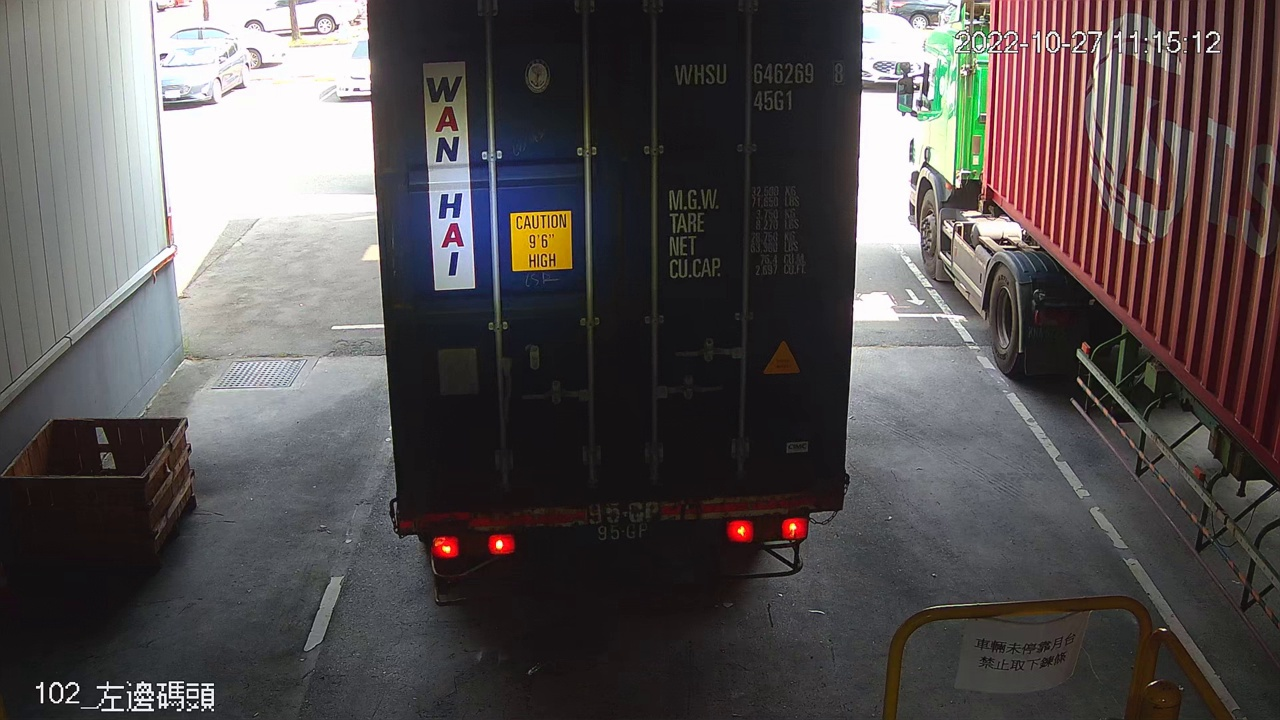container: (668, 54, 851, 117)
